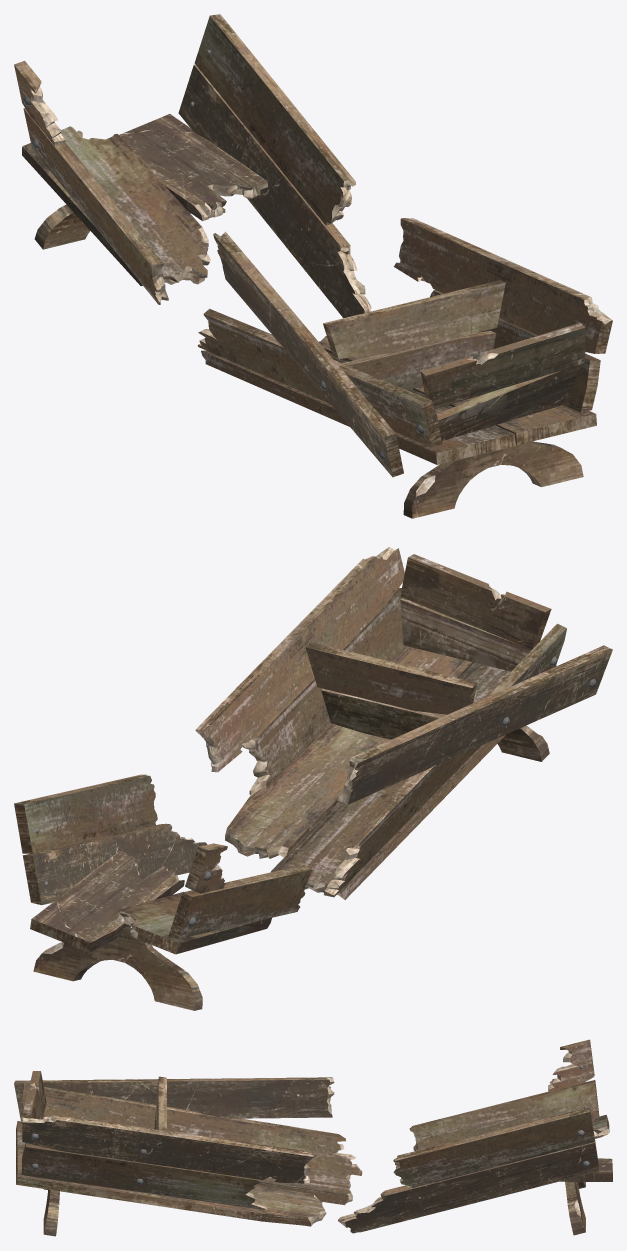
3 views of the same model, one above another, from view 1: azimuth 30°, elevation 25°; view 2: azimuth 150°, elevation 25°; view 3: azimuth 270°, elevation 25° (orthographic). The views are drawn at different scales.
Parts seen in each view (by area): view 1: SM_Village_Trough_v2_LOD0; view 2: SM_Village_Trough_v2_LOD0; view 3: SM_Village_Trough_v2_LOD0.
Part boxes in pixels (bbox=[...]): SM_Village_Trough_v2_LOD0: bbox=[14, 14, 612, 518]; SM_Village_Trough_v2_LOD0: bbox=[14, 547, 612, 1010]; SM_Village_Trough_v2_LOD0: bbox=[14, 1039, 612, 1236].
Bounding box in the file's own units: 0.8863 × 0.6592 × 2.71.
Materials: 1 (1 with a texture image).
